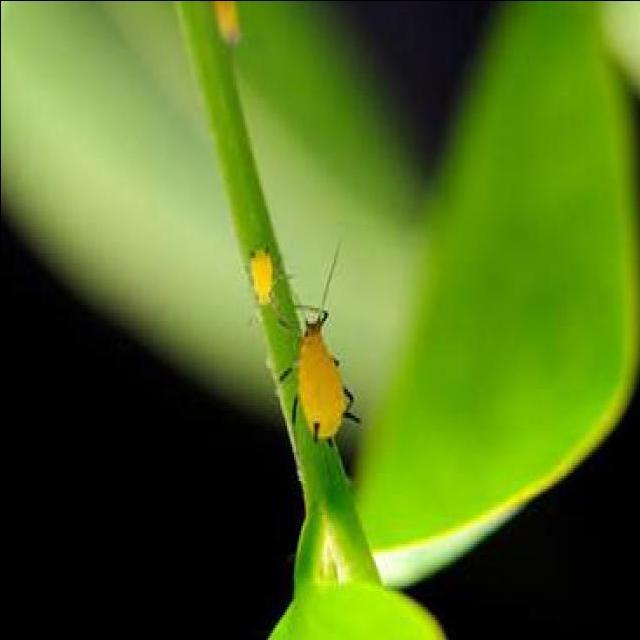aphid: (292, 306, 364, 446), (244, 218, 272, 318)
